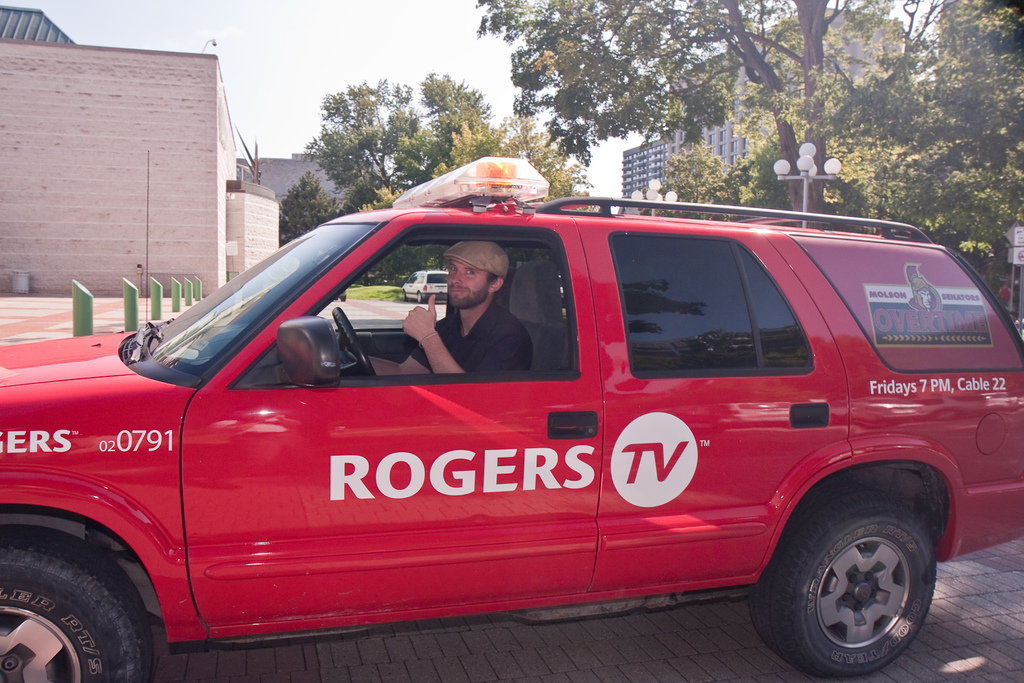Car: (0, 158, 1023, 682), (401, 270, 448, 304), (335, 291, 346, 301)
